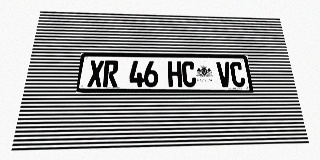4: (129, 61, 144, 87)
6: (144, 61, 158, 87)
C: (229, 62, 246, 87), (182, 61, 197, 87)
H: (168, 61, 182, 87)
R: (103, 60, 119, 87)
V: (216, 62, 232, 87)
X: (87, 60, 104, 87)
